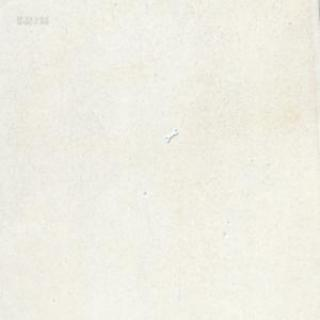Wrenchtrack_idkeyframe: (164, 128, 177, 142)
